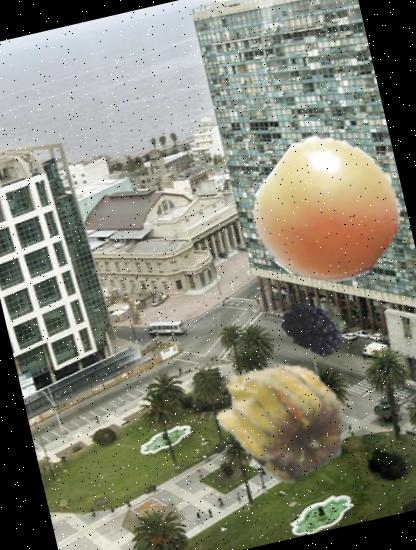Cherry: (243, 128, 413, 298)
Mulberry: (271, 278, 357, 364)
Physalis: (195, 326, 370, 500)
